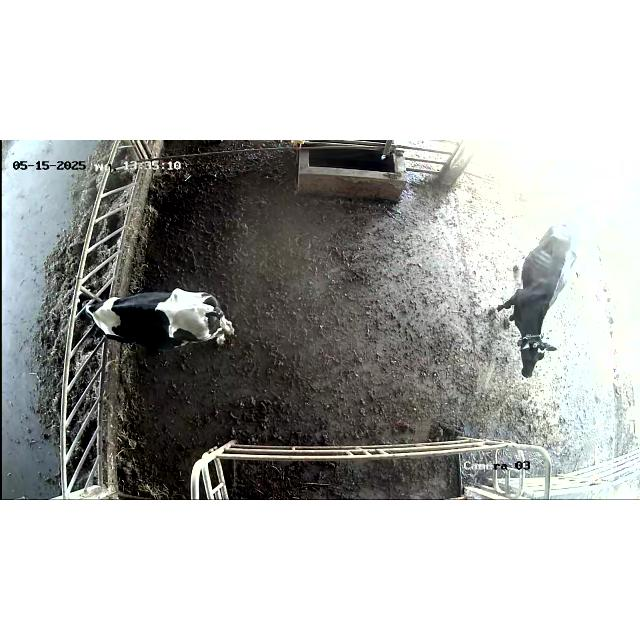stand: (486, 218, 586, 390)
